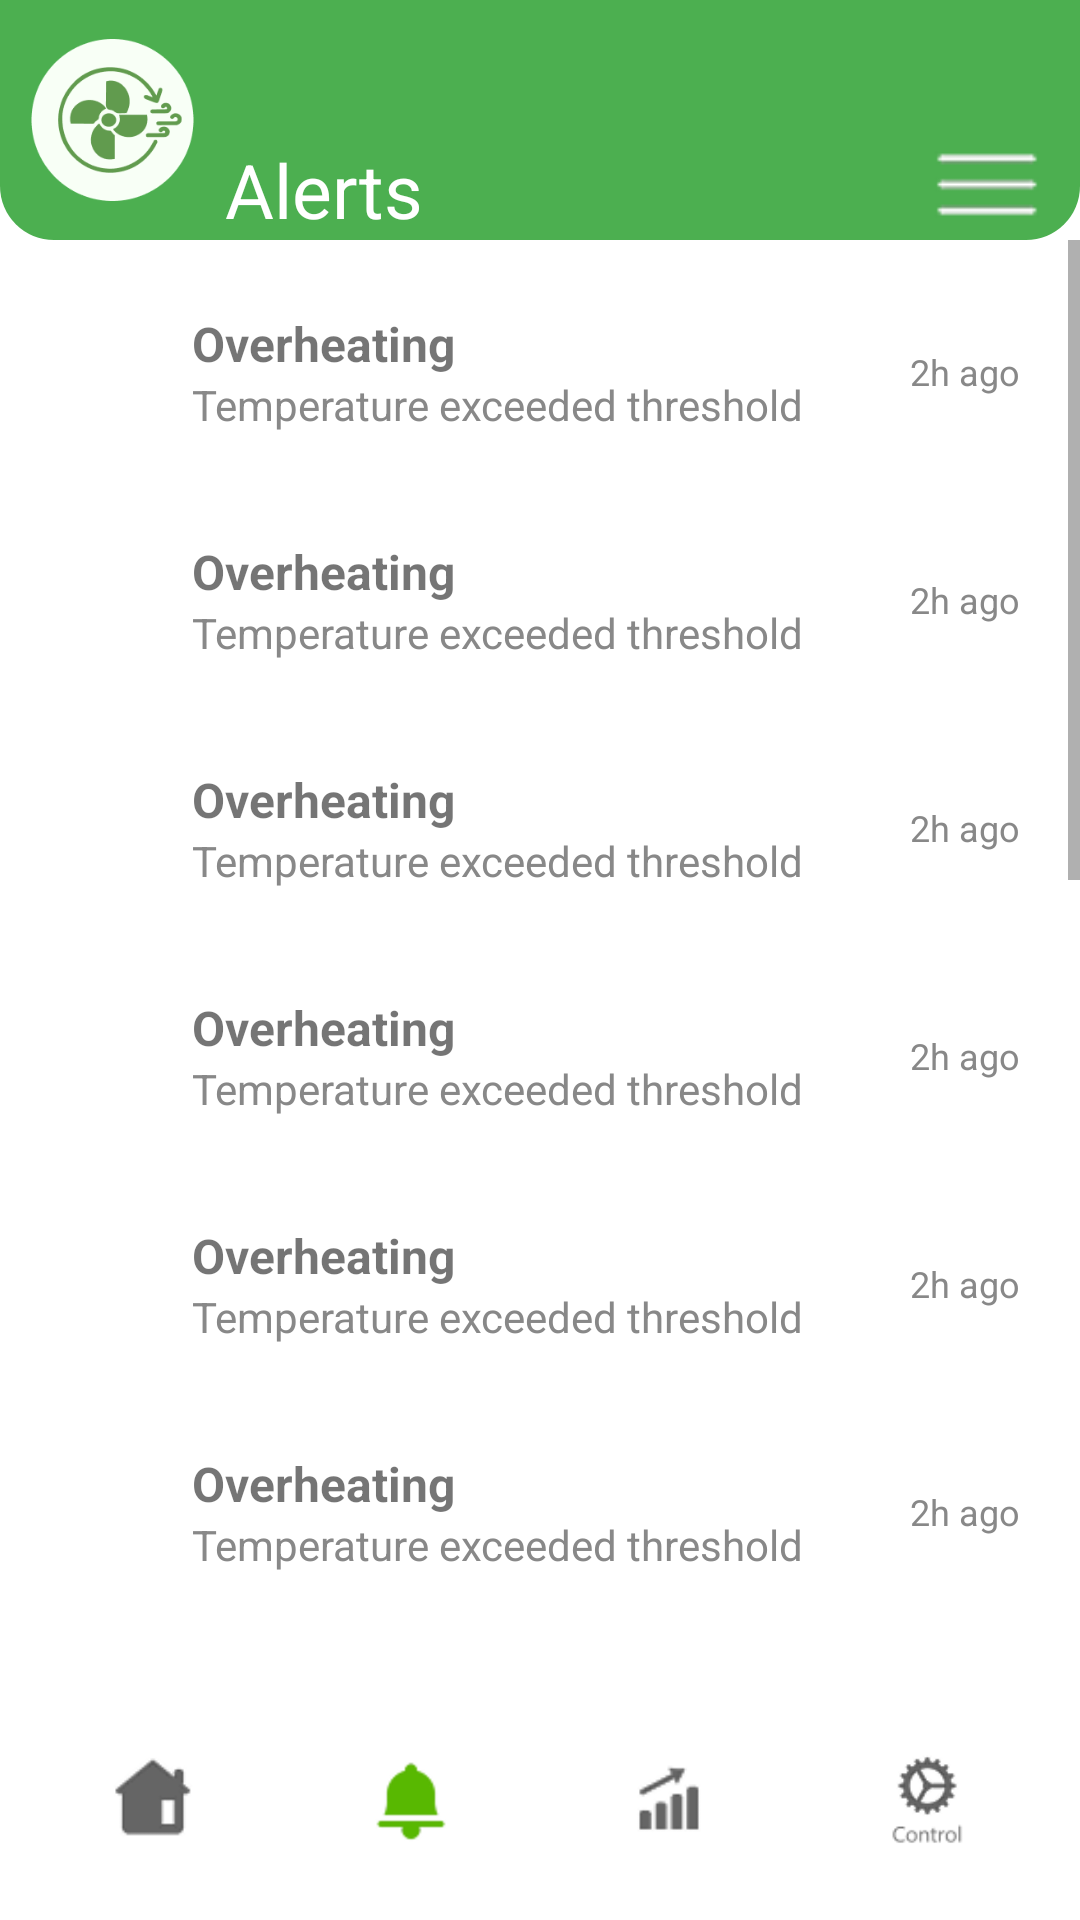

Icons on this 1080 x 1920 Android screen, each with the point to tap as (x,y):
Alerts: (411,1801)
Dashboard: (153,1797)
option: (987,184)
STATS: (669,1798)
